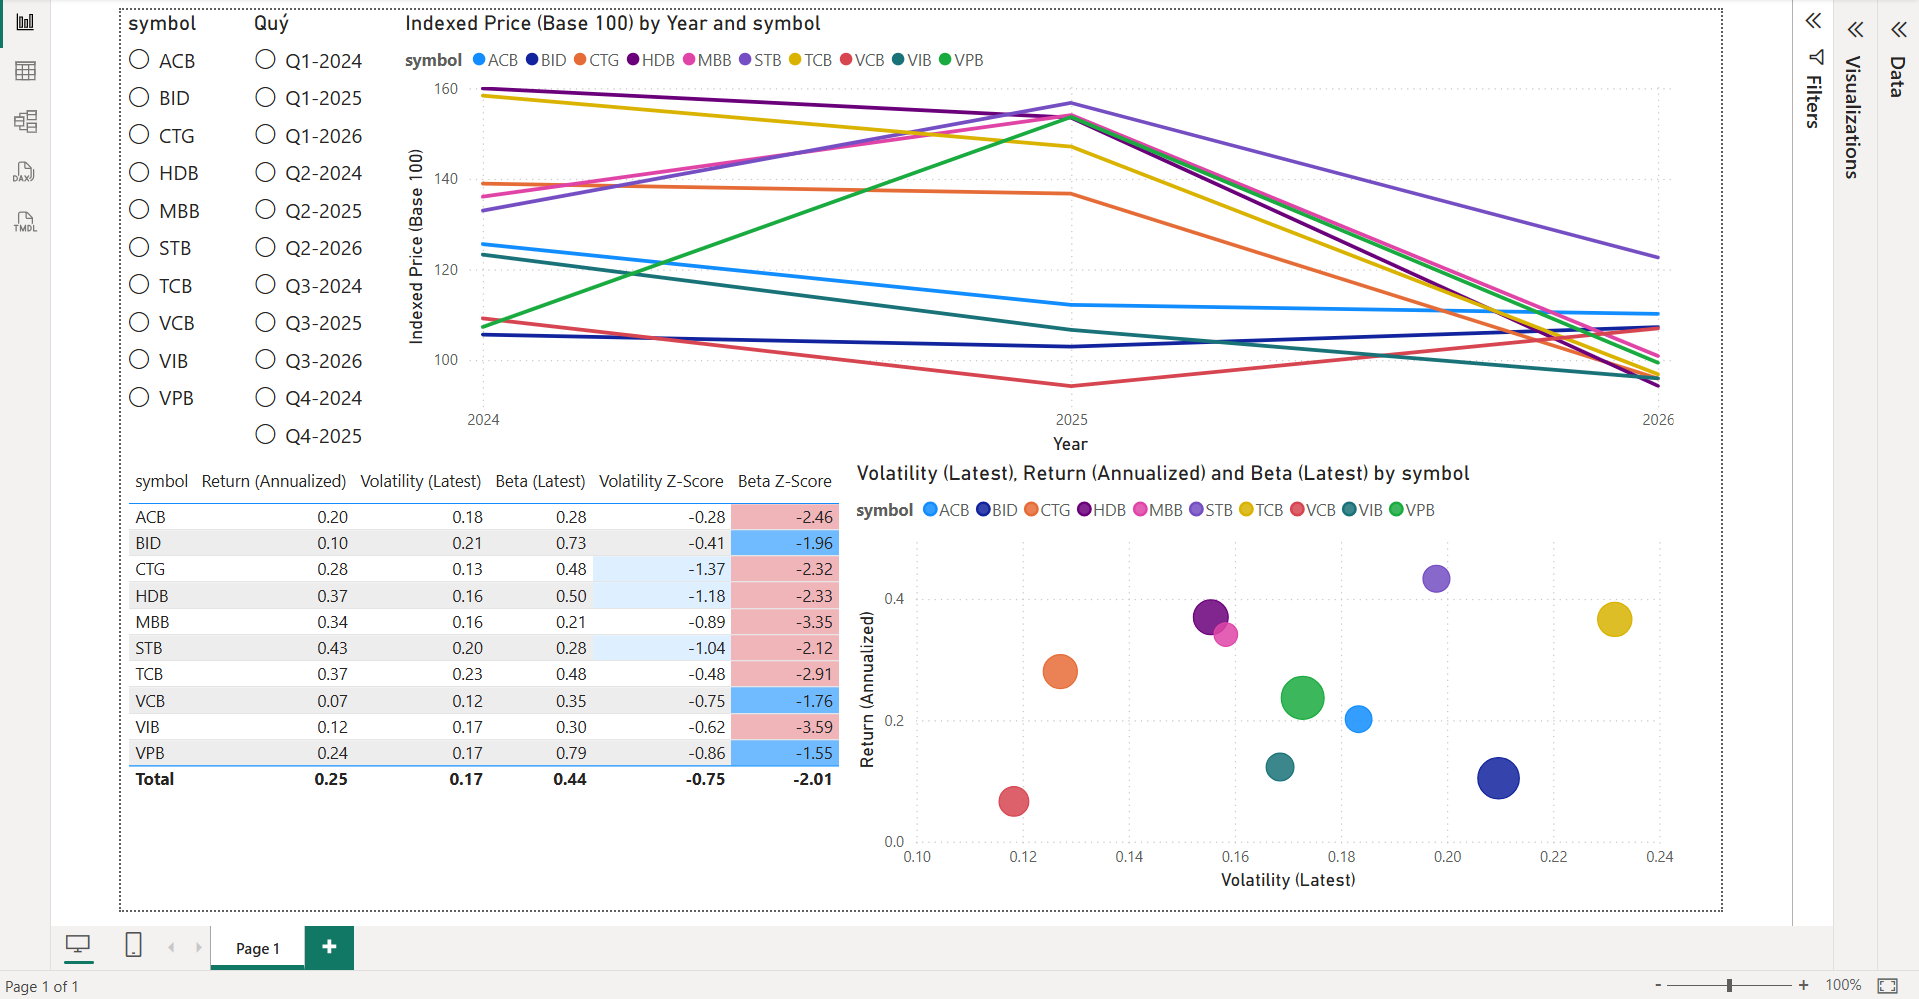

The dashboard page shown, as its layout file describes it:
{"tool":"powerbi","page":{"name":"Page 1","canvas":[1280,720],"ordinal":0},"visuals":[{"type":"lineChart","fields":{"Category":["v_metric_layer.trade_date.Variation.Date Hierarchy.Year","v_metric_layer.trade_date.Variation.Date Hierarchy.Quarter","v_metric_layer.trade_date.Variation.Date Hierarchy.Month","v_metric_layer.trade_date.Variation.Date Hierarchy.Day"],"Y":["v_metric_layer.Indexed Price (Base 100)"],"Series":["v_metric_layer.symbol"]},"box":[222.1,0,1024.8,359.8],"z":0},{"type":"scatterChart","fields":{"X":["v_metric_layer.Volatility (Latest)"],"Y":["v_metric_layer.Return (Annualized)"],"Series":["v_metric_layer.symbol"],"Size":["v_metric_layer.Beta (Latest)"]},"box":[583.2,359.5,664.2,349.9],"z":1000},{"type":"tableEx","fields":{"Values":["v_metric_layer.symbol","v_metric_layer.Return (Annualized)","v_metric_layer.Volatility (Latest)","v_metric_layer.Beta (Latest)","v_metric_layer.Volatility Z-Score","v_metric_layer.Beta Z-Score"]},"box":[0,360.9,583.2,359.5],"z":2000},{"type":"listSlicer","fields":{"Values":["v_metric_layer.Quý"]},"box":[101,0,121,359.8],"z":3000},{"type":"listSlicer","fields":{"Values":["v_metric_layer.symbol"]},"box":[0,0,101,359.8],"z":4000}]}

Visuals, with their boxes on the page's 1280x720 design canvas (x1, y1, x2, y2). These are canvas units, not pixel positions in the 1919x999 screenshot, which may show the page scaled, cropped or inside an application window:
lineChart - v_metric_layer.trade_date.Variation.Date Hierarchy.Year x v_metric_layer.trade_date.Variation.Date Hierarchy.Quarter: (left=222, top=0, right=1247, bottom=360)
scatterChart - v_metric_layer.Volatility (Latest) x v_metric_layer.Return (Annualized): (left=583, top=360, right=1247, bottom=709)
tableEx - v_metric_layer.symbol x v_metric_layer.Return (Annualized): (left=0, top=361, right=583, bottom=720)
listSlicer - v_metric_layer.Quý: (left=101, top=0, right=222, bottom=360)
listSlicer - v_metric_layer.symbol: (left=0, top=0, right=101, bottom=360)
